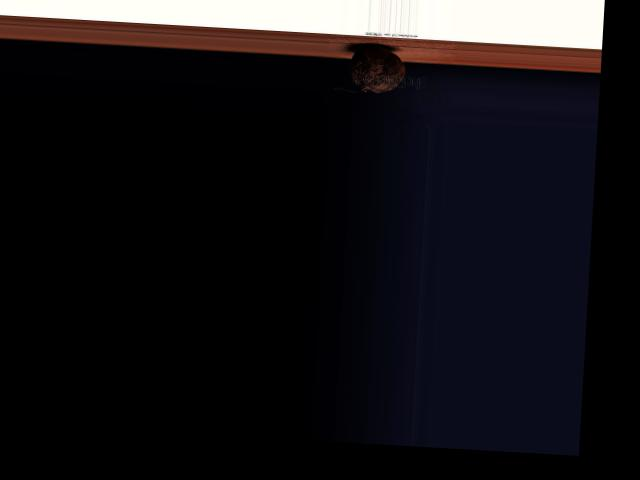beet: (331, 43, 406, 95)
